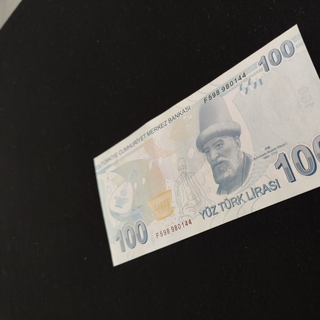100TLBack: (93, 24, 320, 267)
